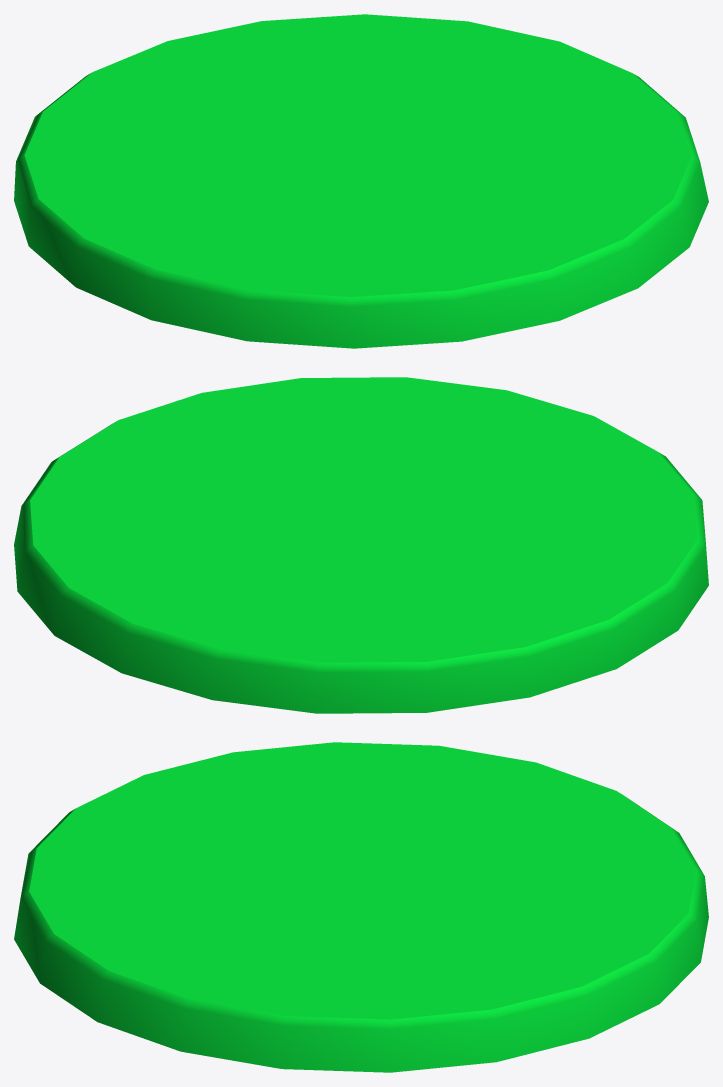
Rendered from Screw_A_Base.fbx.
The picture shows the model from 3 angles, top to bottom: view 1: azimuth 30°, elevation 25°; view 2: azimuth 150°, elevation 25°; view 3: azimuth 270°, elevation 25°; orthographic projection.
Parts seen in each view (by area): view 1: Screw_A_Base; view 2: Screw_A_Base; view 3: Screw_A_Base.
Part boxes in pixels (x1,y1,x2,y2): Screw_A_Base: [14, 14, 708, 348]; Screw_A_Base: [14, 377, 708, 713]; Screw_A_Base: [14, 742, 708, 1072].
Size of the model in its own units: 1.34 by 0.1086 by 1.34.
